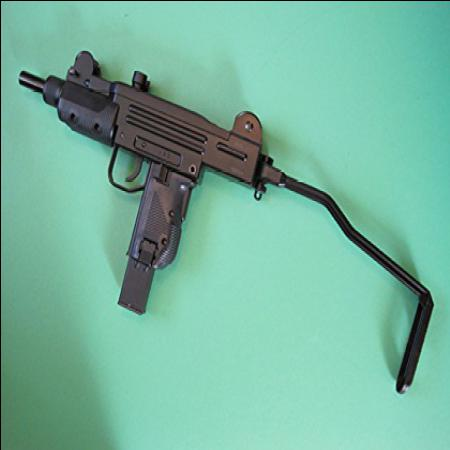Pistol: (12, 34, 260, 322)
